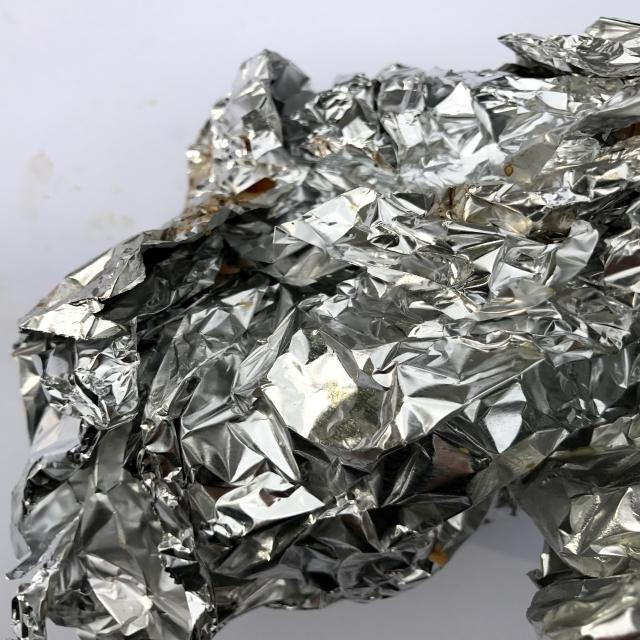metal: (5, 15, 640, 640)
